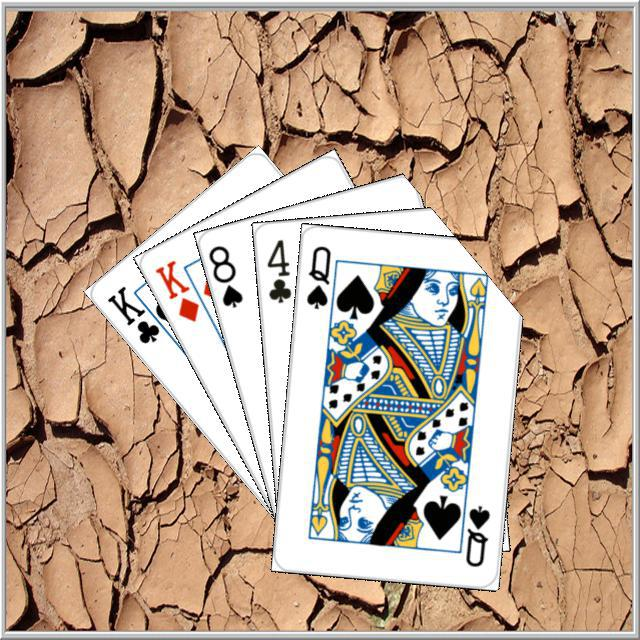4c: (261, 234, 293, 305)
8s: (204, 240, 245, 310)
Kc: (102, 280, 174, 346)
Kd: (150, 255, 201, 324)
Qs: (460, 500, 492, 569), (302, 241, 332, 310)
